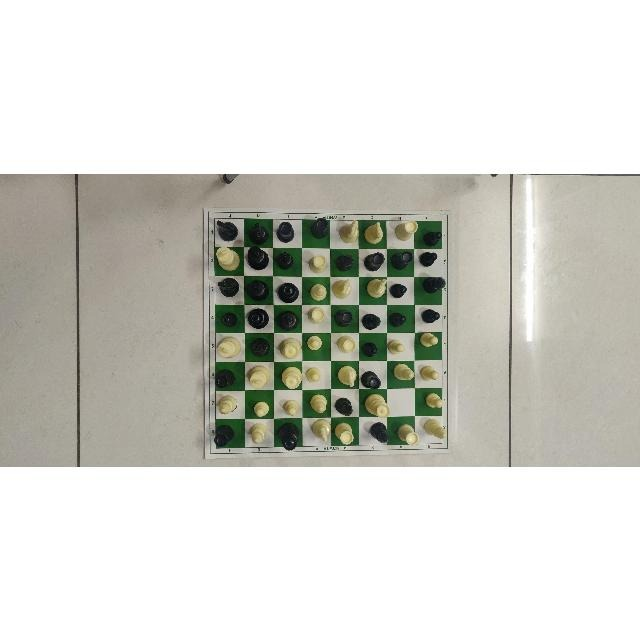black-bishop: (420, 271, 448, 297), (366, 420, 391, 443), (275, 248, 297, 273), (332, 394, 355, 416), (361, 309, 383, 332), (335, 252, 357, 273)
black-king: (246, 242, 270, 272), (245, 276, 270, 303), (276, 308, 301, 333)
black-knight: (213, 216, 241, 242), (215, 276, 243, 302), (246, 334, 271, 358), (247, 219, 271, 243)
black-pawn: (420, 305, 443, 329), (418, 248, 439, 269), (359, 339, 381, 359), (389, 310, 409, 330), (422, 225, 441, 246), (218, 308, 239, 327), (390, 281, 408, 301)
black-queen: (276, 417, 301, 452), (277, 279, 302, 304), (246, 306, 268, 330)
black-rook: (215, 364, 241, 390), (213, 422, 237, 448), (332, 306, 355, 331), (274, 218, 295, 245), (311, 214, 330, 242), (363, 247, 386, 270), (392, 246, 412, 271), (360, 369, 381, 390)
white-bishop: (422, 416, 449, 444), (248, 423, 268, 451), (308, 278, 332, 301), (307, 392, 331, 414), (392, 360, 417, 381), (218, 393, 238, 416)
white-king: (213, 242, 245, 273), (215, 333, 244, 359), (247, 362, 271, 392)
white-knight: (308, 415, 332, 449), (336, 217, 362, 244), (333, 276, 355, 302), (337, 363, 359, 389), (364, 217, 383, 245), (367, 276, 387, 298)
white-pawn: (419, 362, 441, 383), (385, 336, 407, 356), (424, 391, 445, 411), (416, 330, 439, 348), (281, 399, 300, 417), (251, 399, 270, 417), (306, 333, 323, 352), (305, 365, 322, 384)
white-queen: (279, 335, 307, 364), (364, 392, 392, 417), (279, 365, 302, 391)
white-rook: (394, 216, 420, 242), (395, 420, 420, 445), (333, 419, 355, 447), (306, 304, 328, 328), (337, 332, 357, 357), (306, 253, 330, 272)
